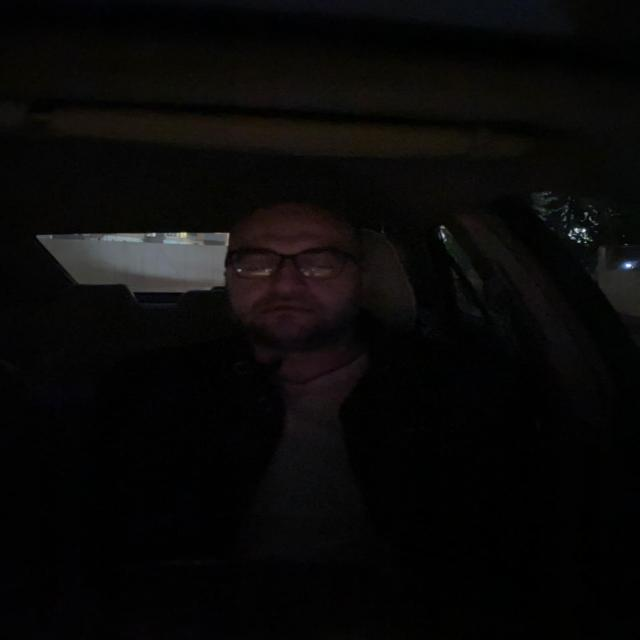drowsy: (216, 199, 387, 347)
